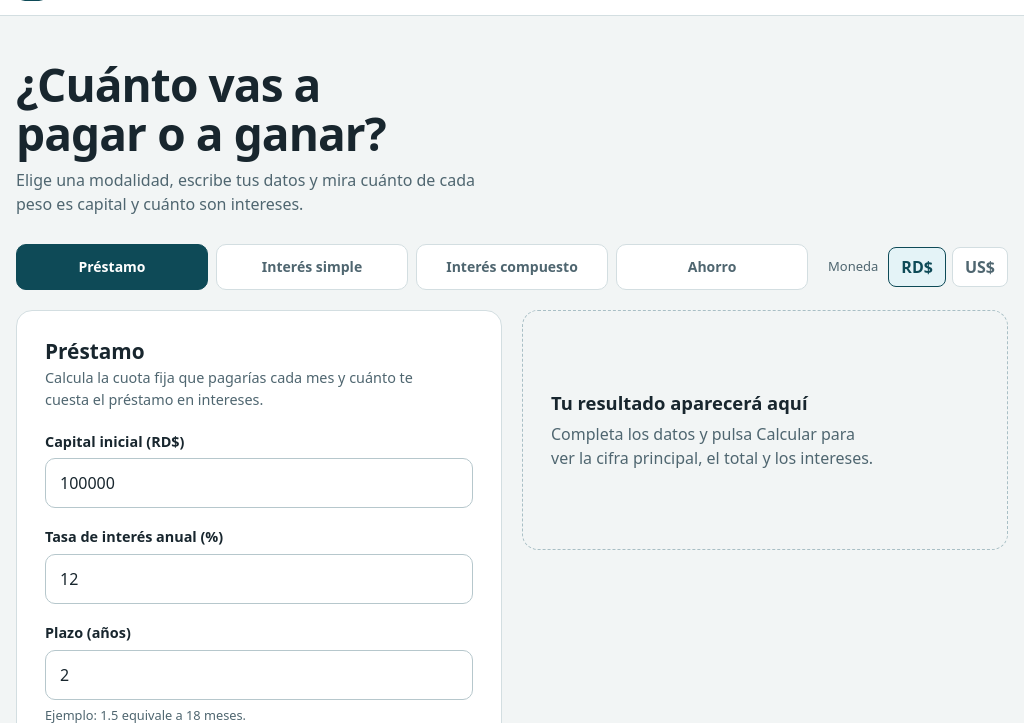
Test: FinanCalc › el aporte mensual solo aparece en Ahorro
Expected: the field labelled "Aporte mensual" is not shown
What coordinates should you click on to do the following:
click the button "Ahorro"
I would click on:
 (712, 266)
Its box is [616,244,808,290].
(page scrolled)
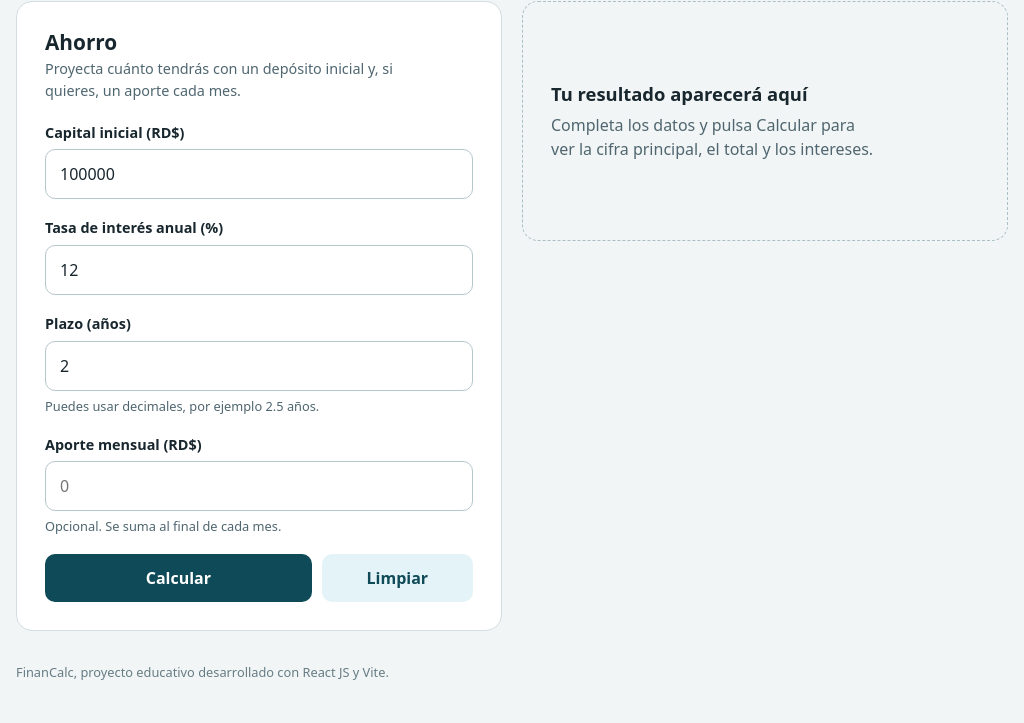
Now the number field labelled "Aporte mensual" is shown, box [45,461,473,511]
